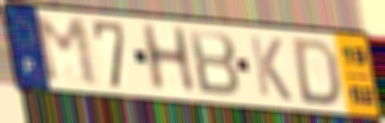7: (90, 18, 127, 91)
B: (186, 27, 243, 100)
D: (291, 36, 342, 108)
H: (137, 21, 199, 94)
K: (247, 32, 295, 104)
M: (29, 15, 103, 89)
